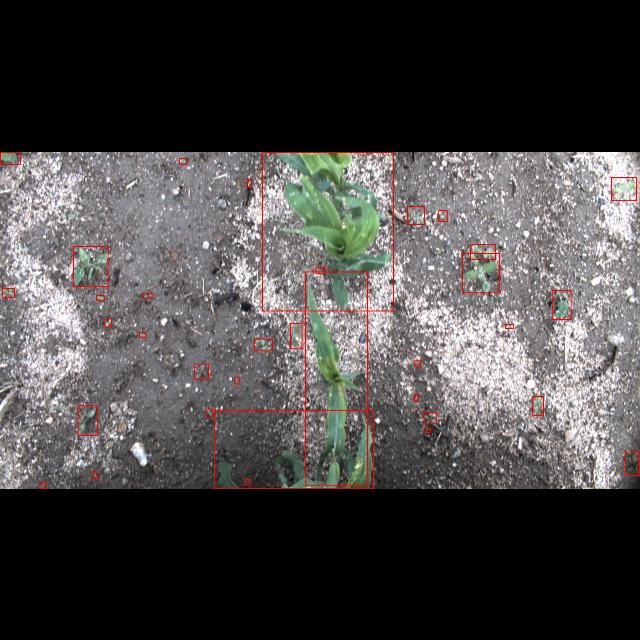crop: (262, 152, 393, 310), (306, 271, 368, 485), (214, 410, 374, 488)
weed: (462, 252, 500, 292), (74, 246, 108, 286), (78, 405, 98, 435), (612, 177, 636, 200), (553, 290, 571, 318), (470, 244, 496, 258), (625, 451, 639, 475), (290, 322, 302, 348), (408, 206, 424, 224), (0, 151, 20, 163), (254, 338, 272, 350), (533, 396, 543, 416), (195, 364, 209, 378), (424, 412, 436, 423), (2, 287, 14, 297), (438, 210, 447, 220), (316, 266, 324, 274), (105, 318, 112, 327), (143, 292, 153, 298), (207, 409, 213, 417), (234, 376, 240, 384), (97, 294, 105, 300), (246, 178, 252, 186), (179, 157, 187, 163), (415, 360, 421, 366), (140, 331, 146, 337), (94, 471, 98, 479), (505, 324, 513, 328), (42, 482, 46, 488), (414, 394, 418, 400), (246, 480, 250, 484), (426, 428, 430, 432)
